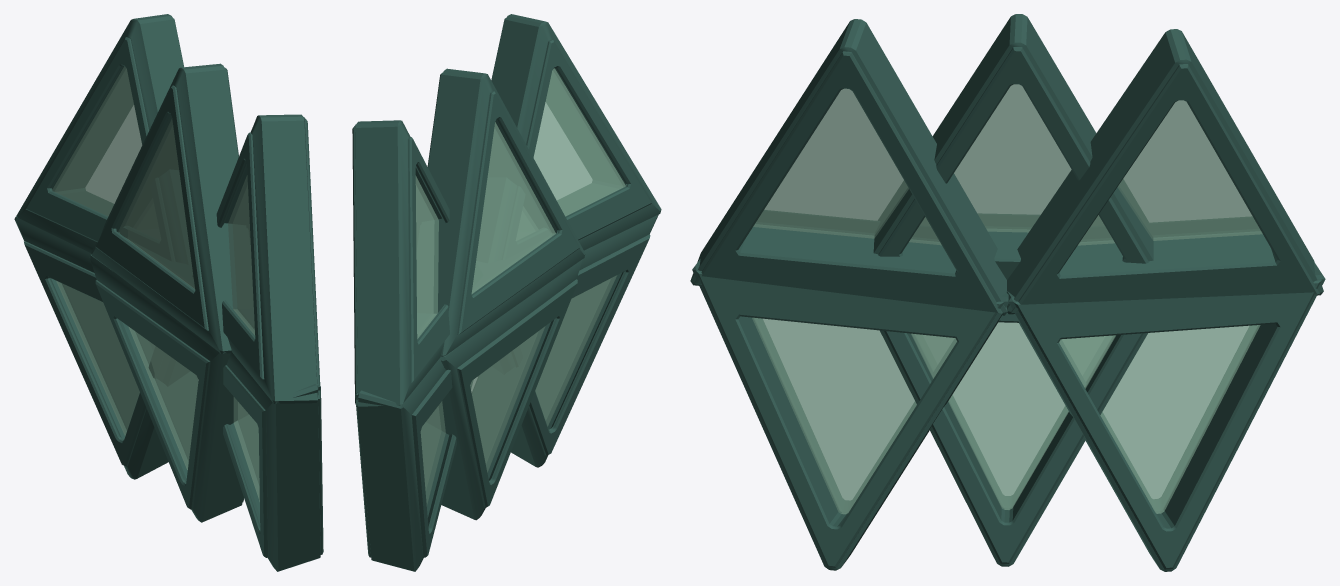
File: triangle weird shape.fbx
3 views of the same model, side by side, from view 1: azimuth 30°, elevation 25°; view 2: azimuth 150°, elevation 25°; view 3: azimuth 270°, elevation 25° (orthographic). The views are drawn at different scales.
Parts seen in each view (by area): view 1: pCube252; view 2: pCube252; view 3: pCube252.
Part boxes in pixels (<box>): pCube252: <box>14,14,323,571</box>; pCube252: <box>352,14,661,571</box>; pCube252: <box>690,14,1325,571</box>.
Bounding box in the file's own units: 31.2 × 128 × 138.
